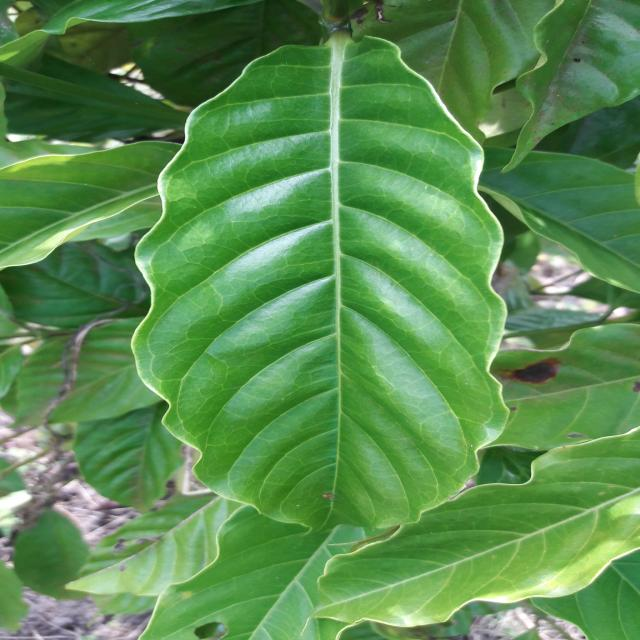Sanas: (131, 38, 511, 537)
